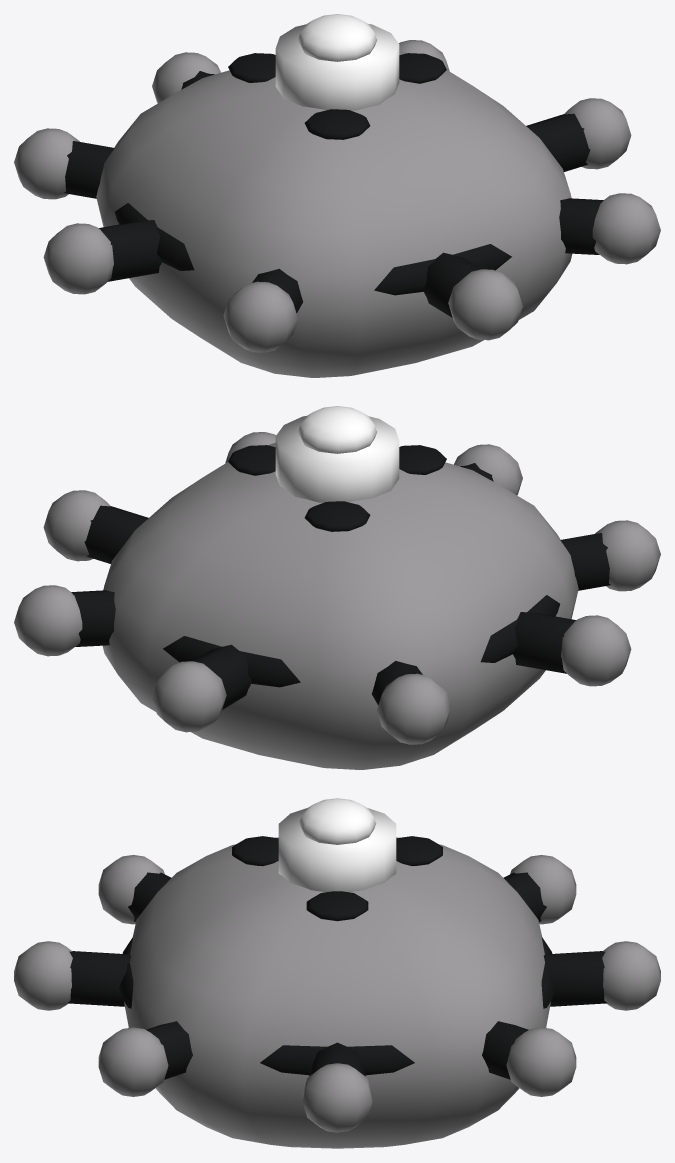
The model's file is Mine.glb.
The picture shows the model from 3 angles, top to bottom: view 1: azimuth 30°, elevation 25°; view 2: azimuth 150°, elevation 25°; view 3: azimuth 270°, elevation 25°; orthographic projection. The views are drawn at different scales.
Parts seen in each view (by area): view 1: Body, Prongs, Plate, ArmingStud; view 2: Body, Prongs, Plate, ArmingStud; view 3: Body, Prongs, Plate, ArmingStud.
Boxes of the visible parts, bbox=[...] form: Body: bbox=[96, 51, 572, 377]; Prongs: bbox=[14, 40, 660, 352]; Plate: bbox=[115, 24, 511, 295]; ArmingStud: bbox=[298, 14, 376, 61]; Body: bbox=[102, 443, 578, 769]; Prongs: bbox=[14, 432, 660, 744]; Plate: bbox=[163, 416, 559, 687]; ArmingStud: bbox=[298, 406, 376, 453]; Body: bbox=[124, 837, 550, 1148]; Prongs: bbox=[14, 855, 660, 1132]; Plate: bbox=[119, 808, 555, 1075]; ArmingStud: bbox=[298, 798, 376, 844].
Size of the model in its own units: 0.8456 by 0.4536 by 0.8409.
Materials: 1 (1 with a texture image).
